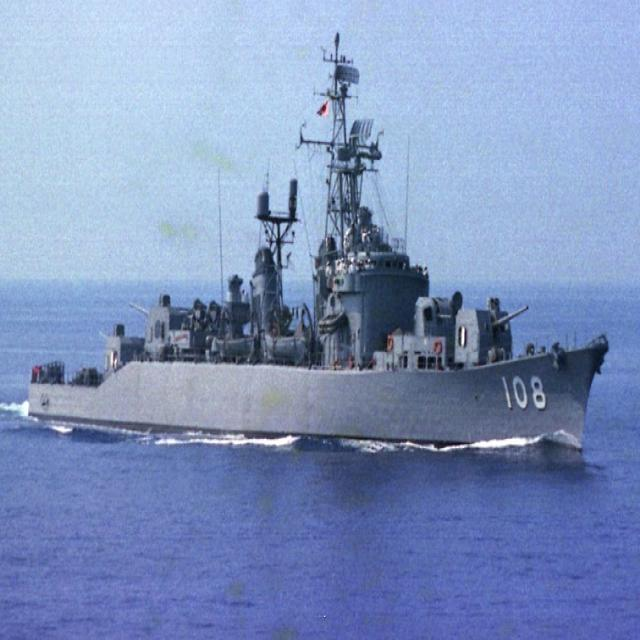navalvessels: (20, 52, 607, 492)
